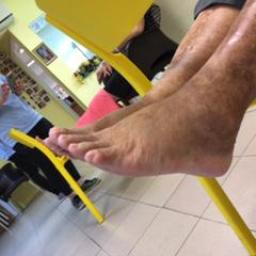Lateral View -Left Foot-: (42, 77, 248, 193)
